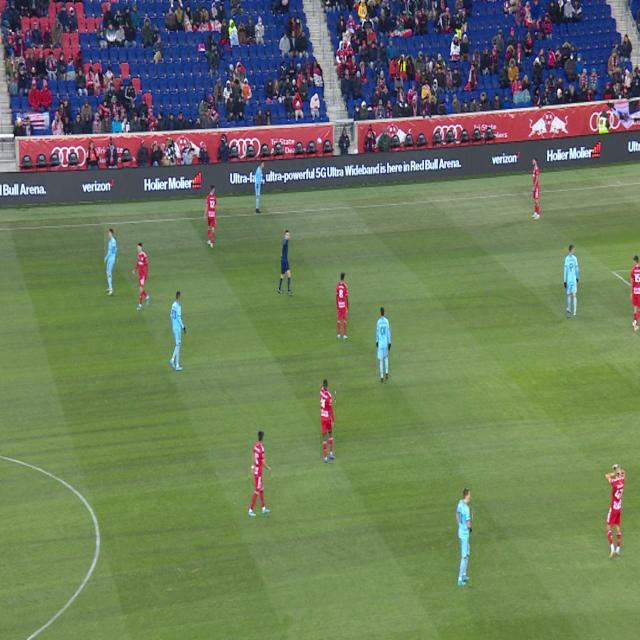player: (248, 431, 271, 516), (605, 464, 625, 559), (457, 488, 472, 586), (170, 291, 186, 370), (321, 379, 335, 463), (132, 243, 149, 310), (564, 245, 579, 316), (377, 308, 390, 383), (336, 273, 349, 340), (105, 228, 117, 295), (630, 255, 640, 332), (204, 184, 216, 248), (531, 157, 540, 219)
referee: (278, 230, 292, 295)
